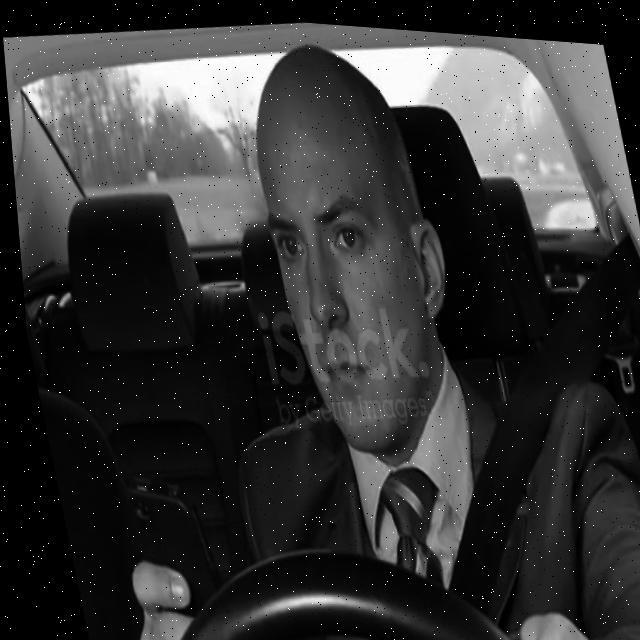PhoneCall: (115, 470, 216, 614)
